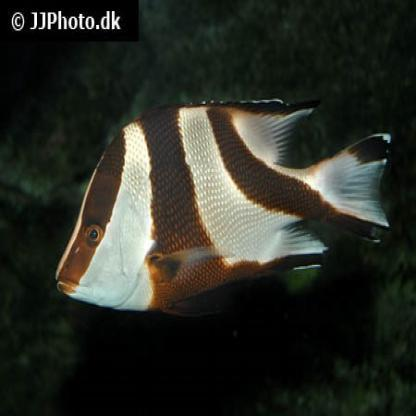Bio: (52, 91, 392, 326)
